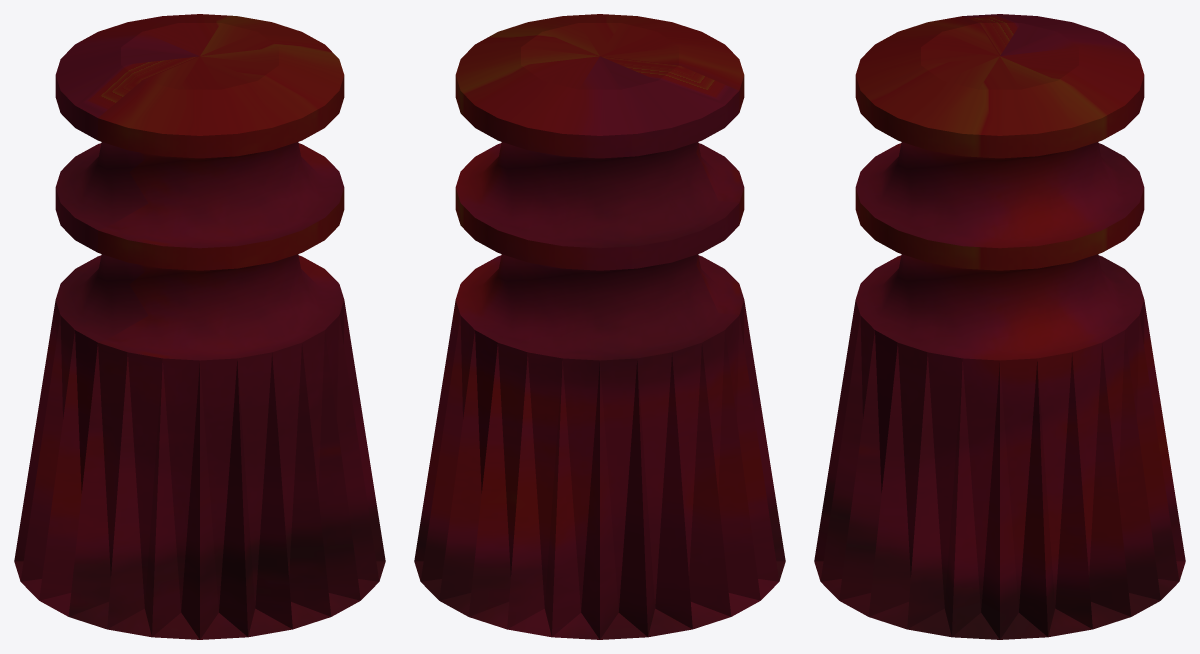
File: PegPlasticT7.fbx
The picture shows the model from 3 angles, left to right: view 1: azimuth 30°, elevation 25°; view 2: azimuth 150°, elevation 25°; view 3: azimuth 270°, elevation 25°; orthographic projection.
Parts seen in each view (by area): view 1: PegPlasticT7; view 2: PegPlasticT7; view 3: PegPlasticT7.
Part boxes in pixels (left/top/right/bottom): PegPlasticT7: left=14, top=14, right=385, bottom=639; PegPlasticT7: left=414, top=14, right=785, bottom=639; PegPlasticT7: left=814, top=14, right=1185, bottom=639.
Size of the model in its own units: 1.85 by 2.77 by 1.85.
Materials: 1 (1 with a texture image).
